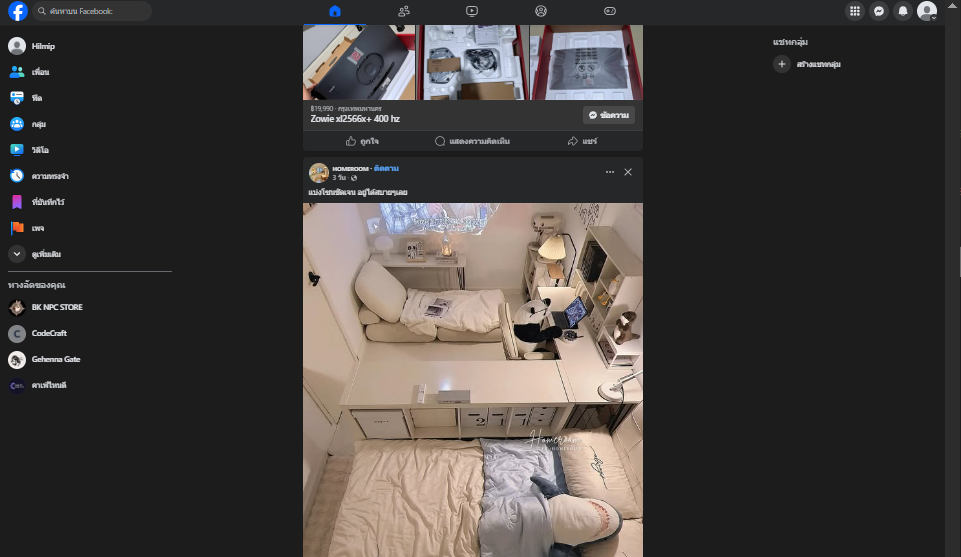topic: (302, 159, 646, 557), (304, 24, 645, 154)
